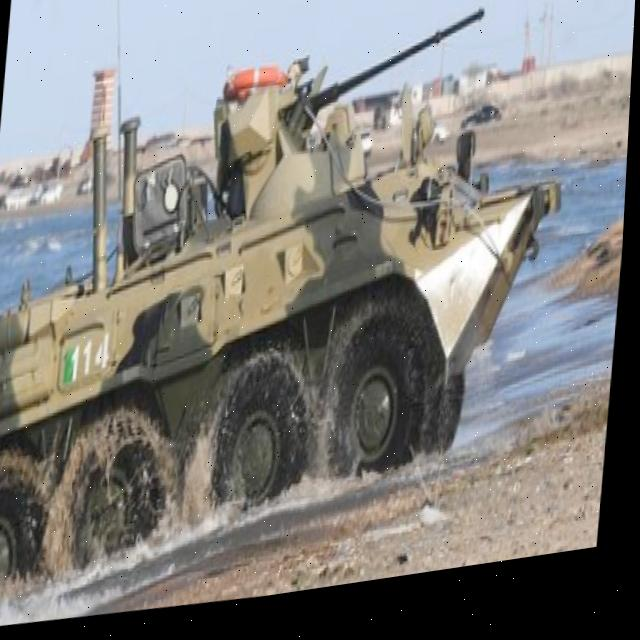MIL_APC: (0, 25, 572, 640)
